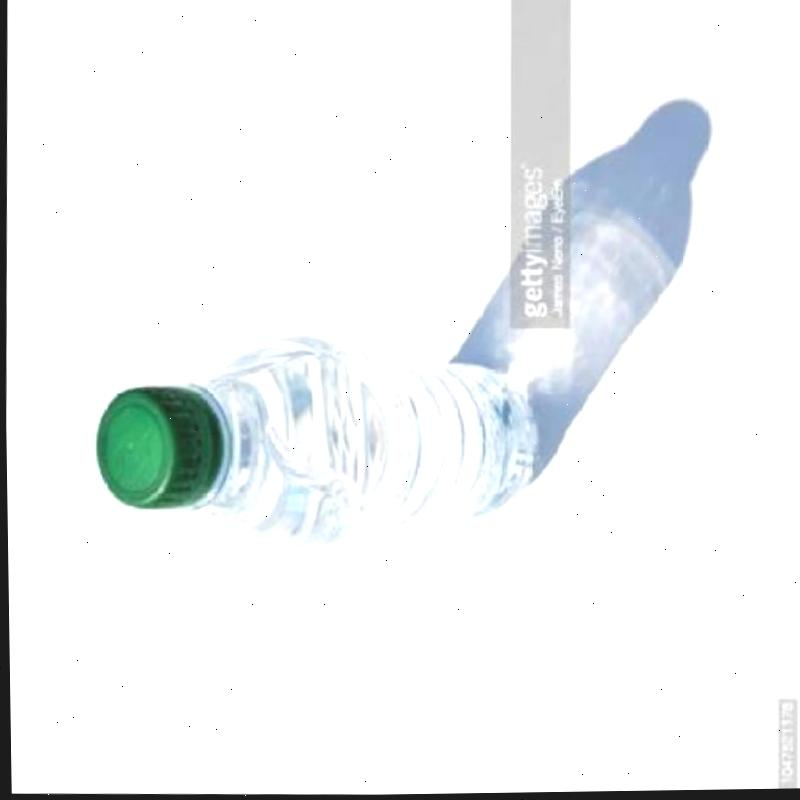botella: (90, 327, 538, 566)
